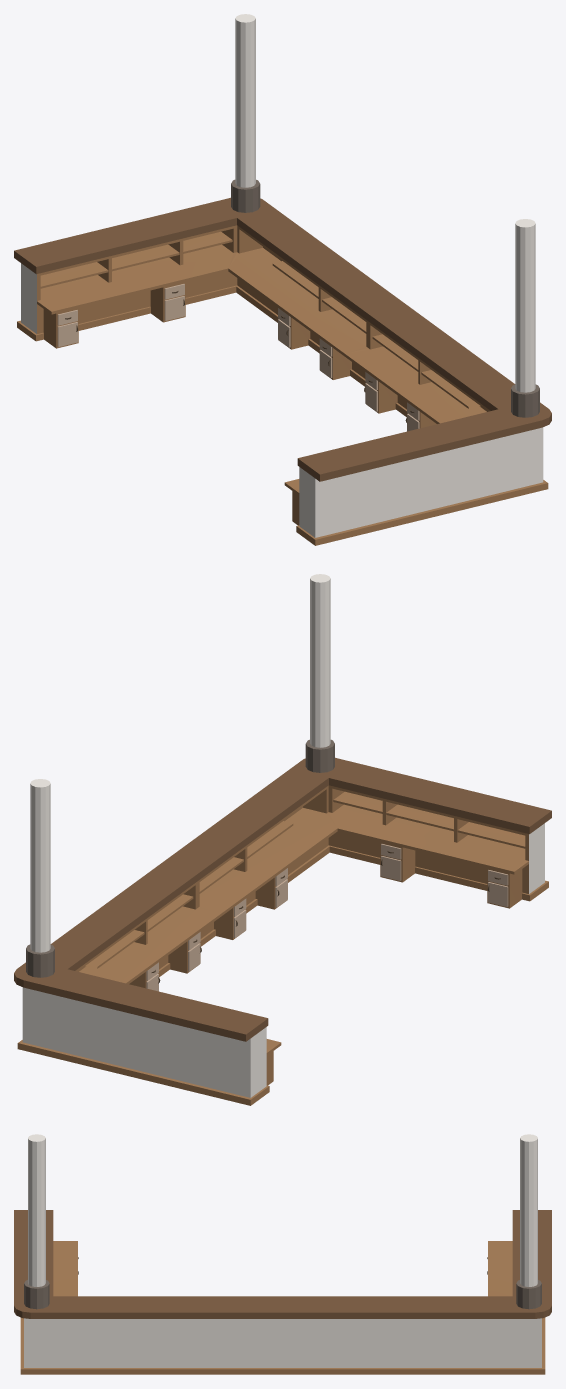
File: SM_Desk_01.glb
3 views of the same model, one above another, from view 1: azimuth 30°, elevation 25°; view 2: azimuth 150°, elevation 25°; view 3: azimuth 270°, elevation 25° (orthographic). The views are drawn at different scales.
Visible parts, largest first — view 1: SM_Desk_01; view 2: SM_Desk_01; view 3: SM_Desk_01.
Part boxes in pixels (left/top/right/bottom): SM_Desk_01: left=14, top=14, right=551, bottom=545; SM_Desk_01: left=14, top=574, right=551, bottom=1105; SM_Desk_01: left=14, top=1134, right=551, bottom=1374.
Size of the model in its own units: 4.24 by 4.44 by 9.38.
Materials: 1 (1 with a texture image).
